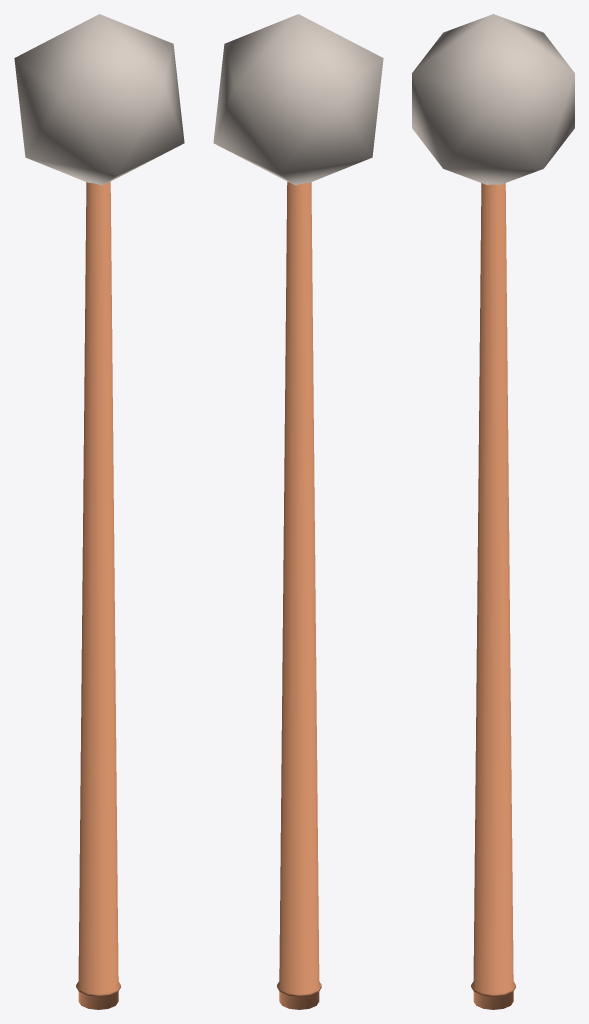
The model's file is arrowFire.fbx.
3 views of the same model, side by side, from view 1: azimuth 30°, elevation 25°; view 2: azimuth 150°, elevation 25°; view 3: azimuth 270°, elevation 25° (orthographic).
Parts seen in each view (by area): view 1: Cylinder.001; view 2: Cylinder.001; view 3: Cylinder.001.
Boxes of the visible parts, box(x1,y1,x2,y2) form: Cylinder.001: box(14, 14, 184, 1009); Cylinder.001: box(213, 14, 383, 1009); Cylinder.001: box(412, 14, 574, 1009).
Size of the model in its own units: 44.72 by 285 by 42.53.
